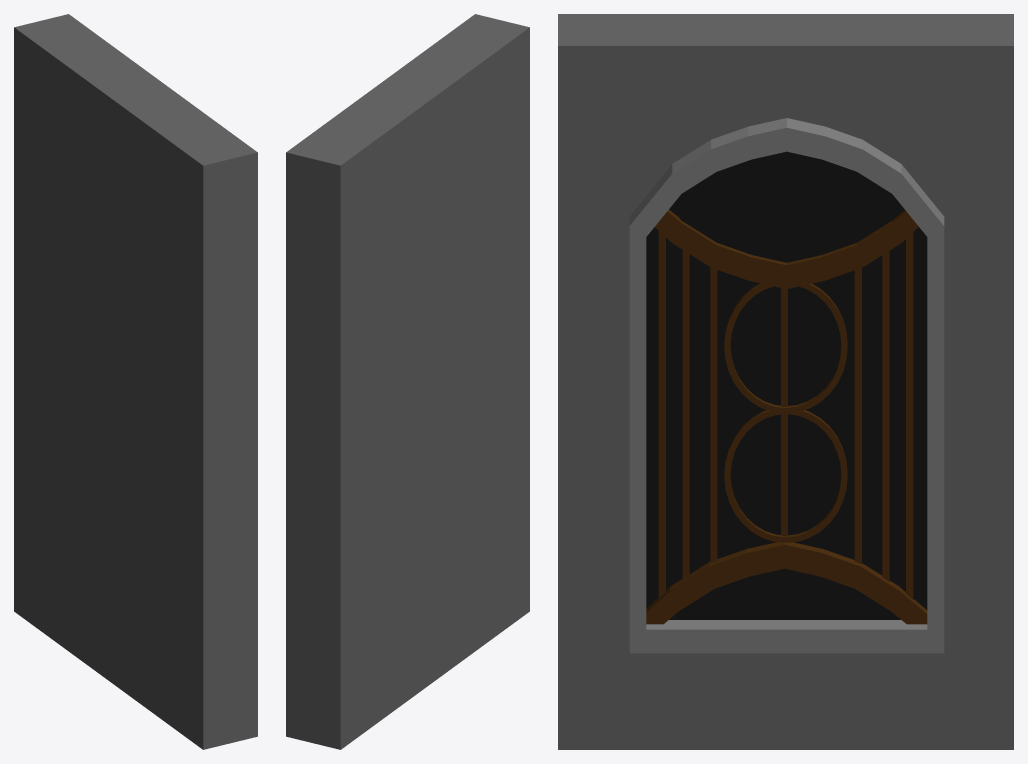
File: cuaso_matsau2.glb
3 renders of one model, left to right at view 1: azimuth 30°, elevation 25°; view 2: azimuth 150°, elevation 25°; view 3: azimuth 270°, elevation 25°, orthographic. The views are drawn at different scales.
Visible parts, largest first — view 1: Cube; view 2: Cube; view 3: Cube, Cube.001, Khung001, decor001.001, decor001, Cube.005, Cube.008, Cylinder.002, Cylinder.001, Cube.004, Cube.007, Cube.003 (+2 smaller).
Part boxes in pixels (box(x1,y1,x2,y2)): Cube: box(14, 14, 257, 749); Cube: box(286, 14, 529, 749); Cube: box(558, 14, 1013, 749); Cube.001: box(646, 151, 927, 619); Khung001: box(629, 118, 944, 653); decor001.001: box(646, 542, 927, 624); decor001: box(655, 210, 918, 289); Cube.005: box(906, 232, 913, 599); Cube.008: box(658, 231, 665, 598); Cylinder.002: box(724, 410, 847, 542); Cylinder.001: box(724, 283, 847, 413); Cube.004: box(882, 251, 889, 581); Cube.007: box(682, 250, 689, 579); Cube.003: box(854, 268, 861, 564).
Size of the model in its own units: 1.01 by 7.9 by 4.64.
